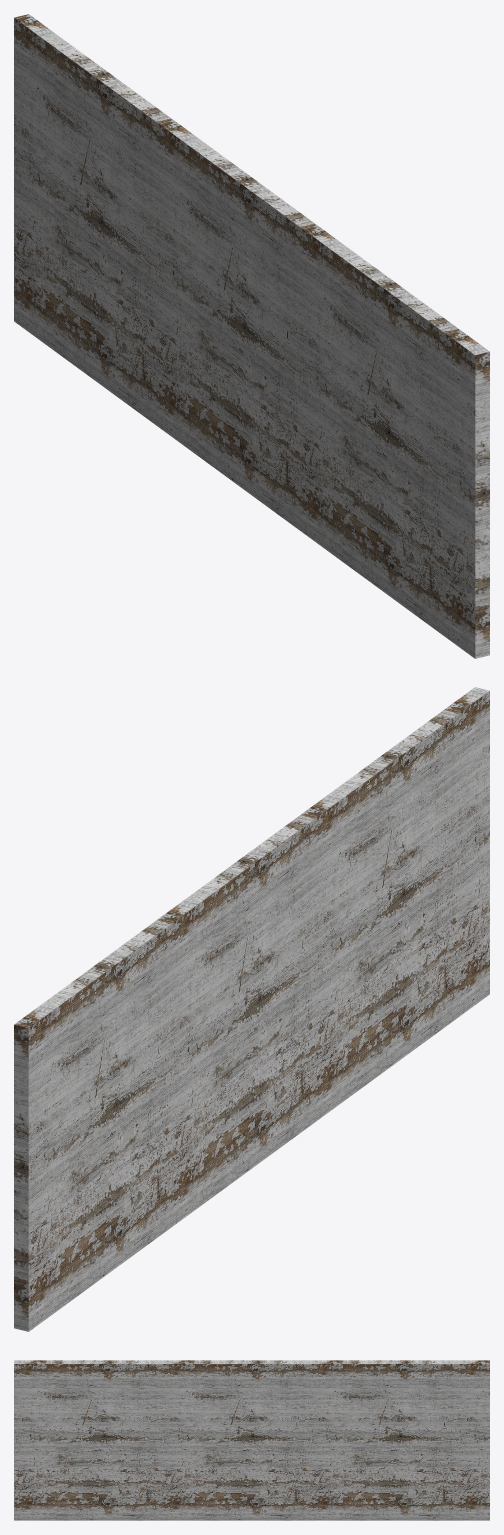
Rendered from souplongwall027.glb.
3 views of the same model, one above another, from view 1: azimuth 30°, elevation 25°; view 2: azimuth 150°, elevation 25°; view 3: azimuth 270°, elevation 25° (orthographic). The views are drawn at different scales.
Parts seen in each view (by area): view 1: souplongwall027_high_1; view 2: souplongwall027_high_1; view 3: souplongwall027_high_1.
Boxes of the visible parts, box(x1,y1,x2,y2) form: souplongwall027_high_1: box(14, 14, 489, 658); souplongwall027_high_1: box(14, 687, 489, 1331); souplongwall027_high_1: box(14, 1360, 489, 1520).
Bounding box in the file's own units: 0.1504 × 2.95 × 8.11.
Materials: 1 (1 with a texture image).
